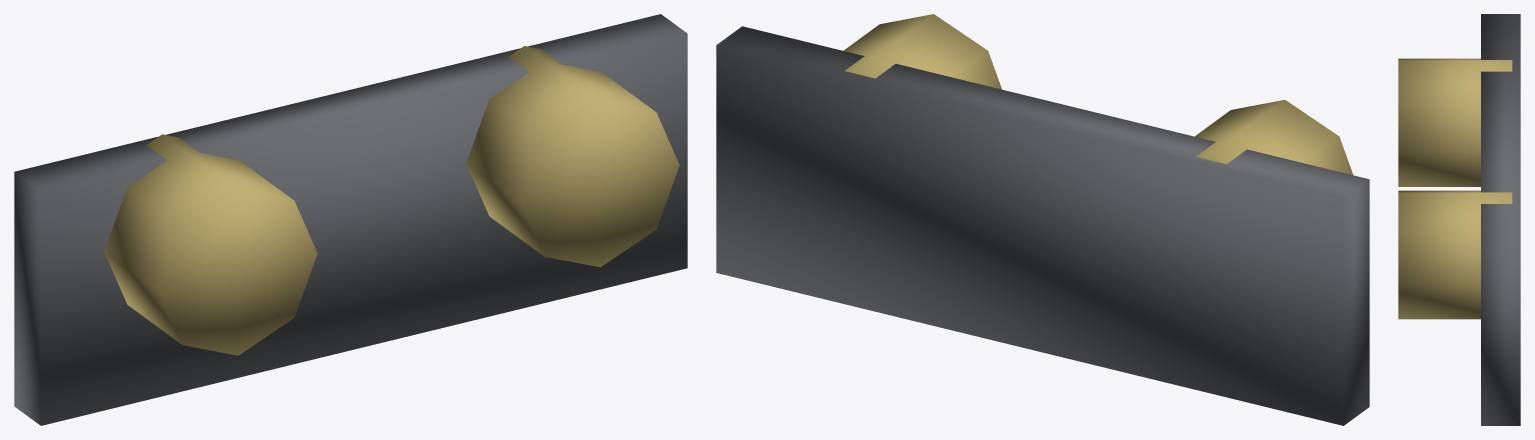
Rendered from emergency_light_pair_08.glb.
3 views of the same model, side by side, from view 1: azimuth 30°, elevation 25°; view 2: azimuth 150°, elevation 25°; view 3: azimuth 270°, elevation 25° (orthographic). The views are drawn at different scales.
Parts seen in each view (by area): view 1: world; view 2: world; view 3: world.
Boxes of the visible parts, box(x1,y1,x2,y2) form: world: box(14, 14, 687, 425); world: box(716, 14, 1369, 425); world: box(1398, 14, 1520, 425).
Size of the model in its own units: 0.49 by 0.175 by 0.1075.
